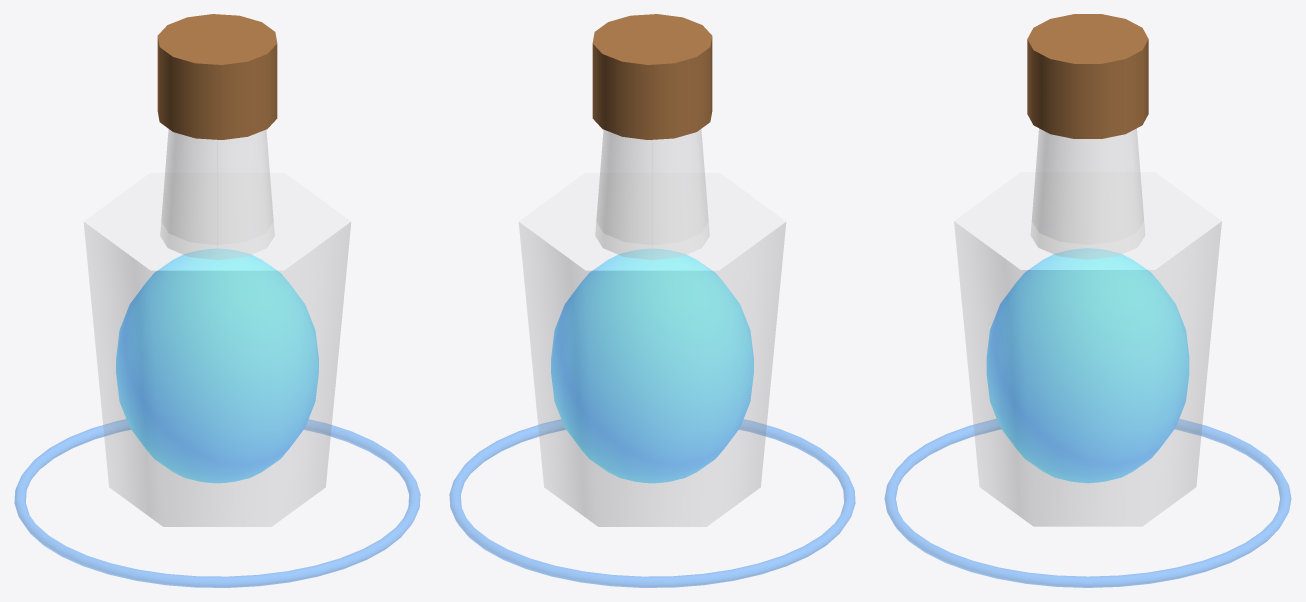
Rendered from mana-potion.glb.
3 views of the same model, side by side, from view 1: azimuth 30°, elevation 25°; view 2: azimuth 150°, elevation 25°; view 3: azimuth 270°, elevation 25° (orthographic).
Visible parts, largest first — view 1: faceted_bottle, liquid, cork, neck, ground_halo; view 2: faceted_bottle, liquid, cork, neck, ground_halo; view 3: faceted_bottle, liquid, cork, neck, ground_halo.
Boxes of the visible parts, x1,y1,x2,y2 form: faceted_bottle: [84, 173, 350, 526]; liquid: [116, 248, 318, 483]; cork: [157, 14, 277, 139]; neck: [160, 129, 274, 259]; ground_halo: [14, 419, 420, 587]; faceted_bottle: [519, 173, 785, 526]; liquid: [551, 248, 753, 483]; cork: [592, 14, 712, 139]; neck: [595, 129, 709, 259]; ground_halo: [449, 419, 855, 587]; faceted_bottle: [954, 172, 1221, 526]; liquid: [986, 248, 1189, 483]; cork: [1027, 14, 1148, 138]; neck: [1031, 128, 1144, 259]; ground_halo: [884, 419, 1291, 587].
Bounding box in the file's own units: 0.9953 × 1.25 × 0.9953.
